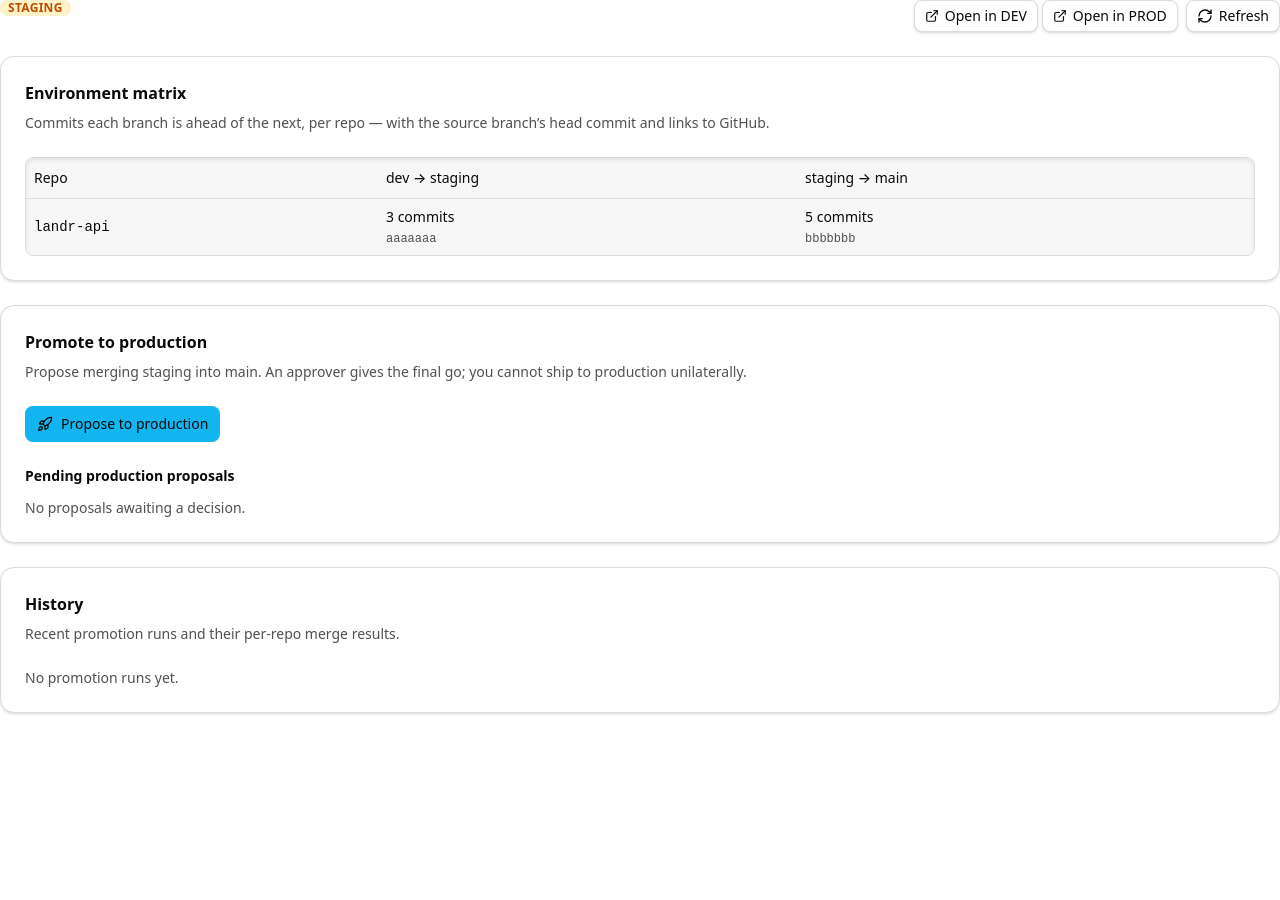
Scenario: Release route — preview migrations in propose dialog (staging tier) › shows "will apply 2 migrations" when the endpoint returns 2 files
The image size is (1280, 900).
Click the button "Propose to production" at (123, 424), box [25,406,220,442]
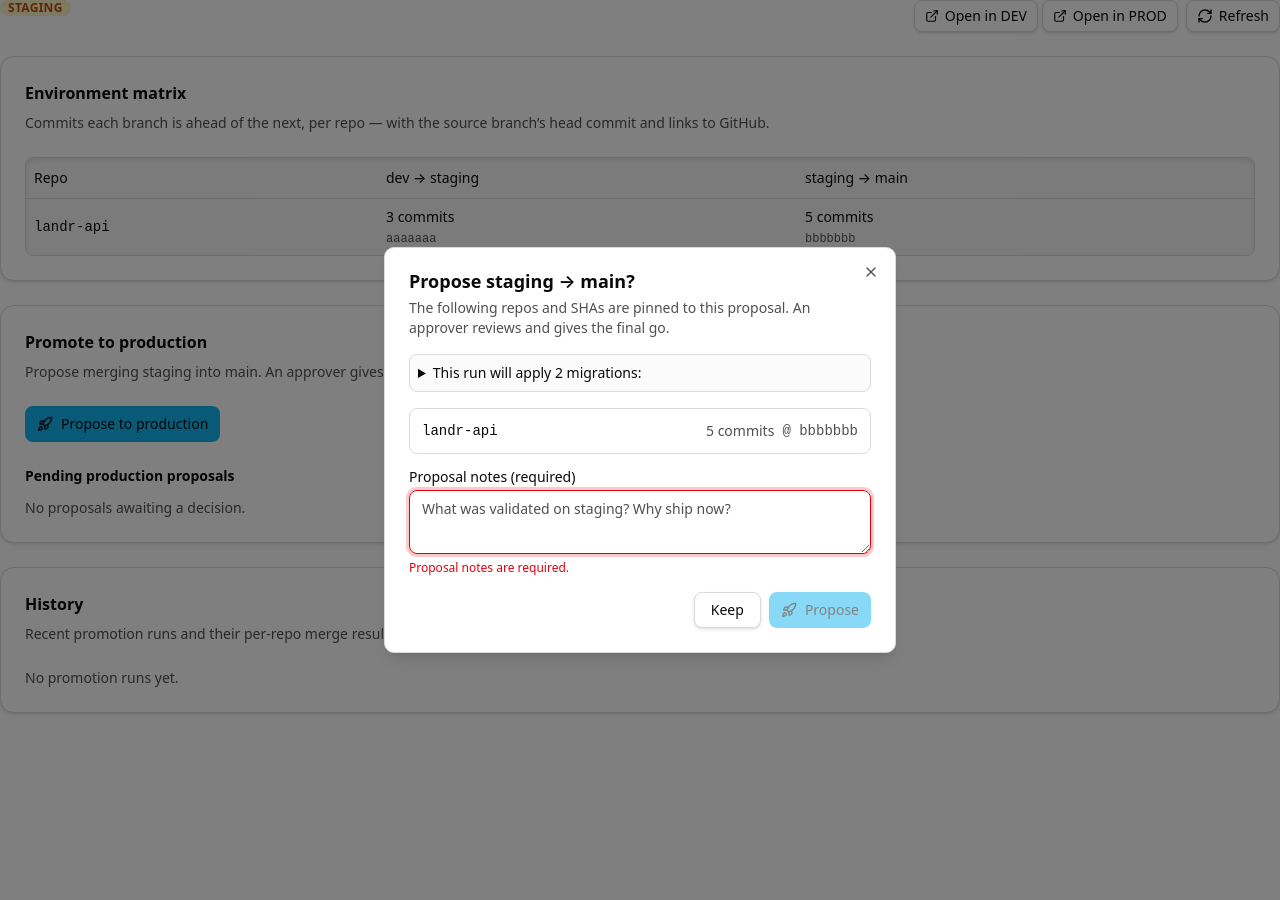
Now the heading "This run will apply 2 migrations:" is shown, box [433,363,642,382]
Type "Schema additive — safe to ship" into the text box labelled "Proposal notes (required)" at (640, 522), box [409,490,871,554]
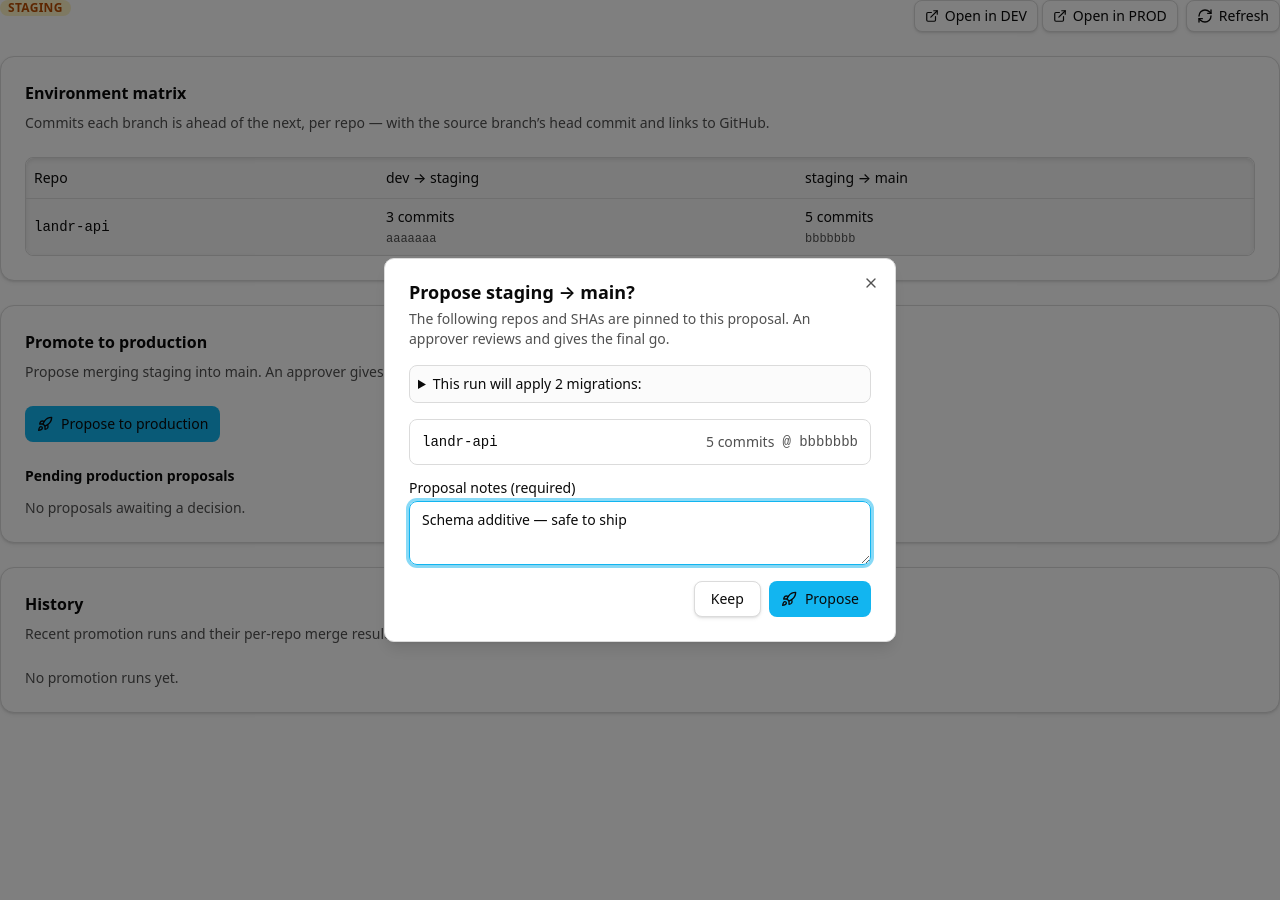
Now the button "Propose" is enabled, box [769,581,871,617]
